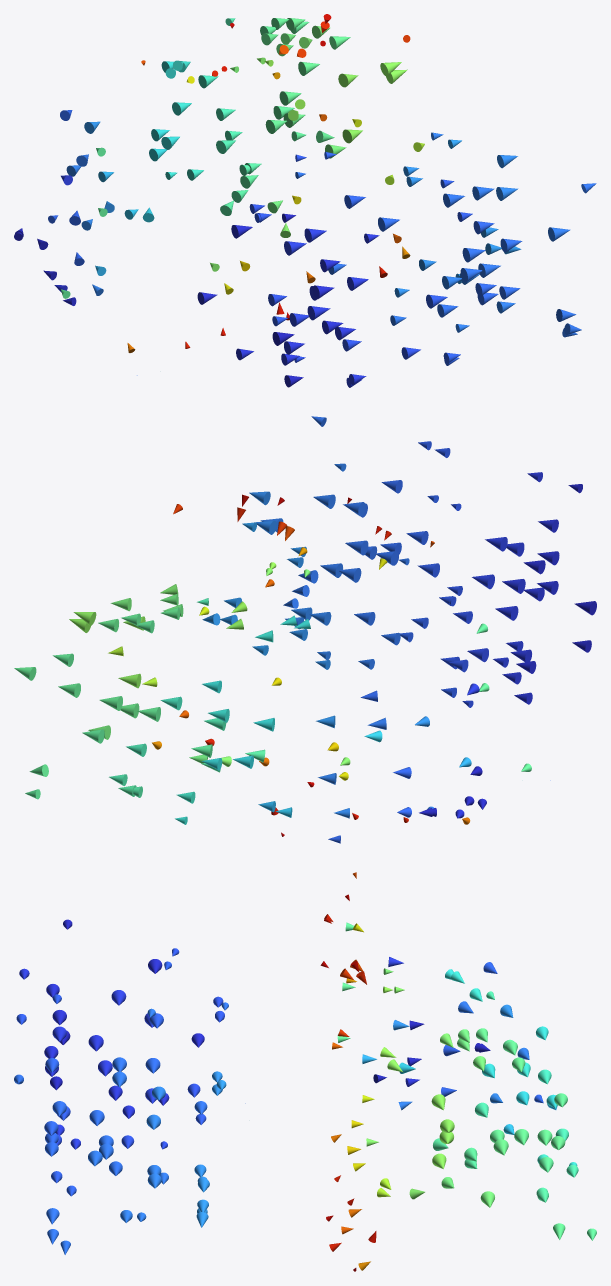
The model's file is LineasCorrienteN2-H2O_mh2-1.38_V-0.7.glb.
3 renders of one model, top to bottom at view 1: azimuth 30°, elevation 25°; view 2: azimuth 150°, elevation 25°; view 3: azimuth 270°, elevation 25°, orthographic. The views are drawn at different scales.
Size of the model in its own units: 0.000979 by 0.000807 by 0.00123.
Materials: 2 (2 with a texture image).
